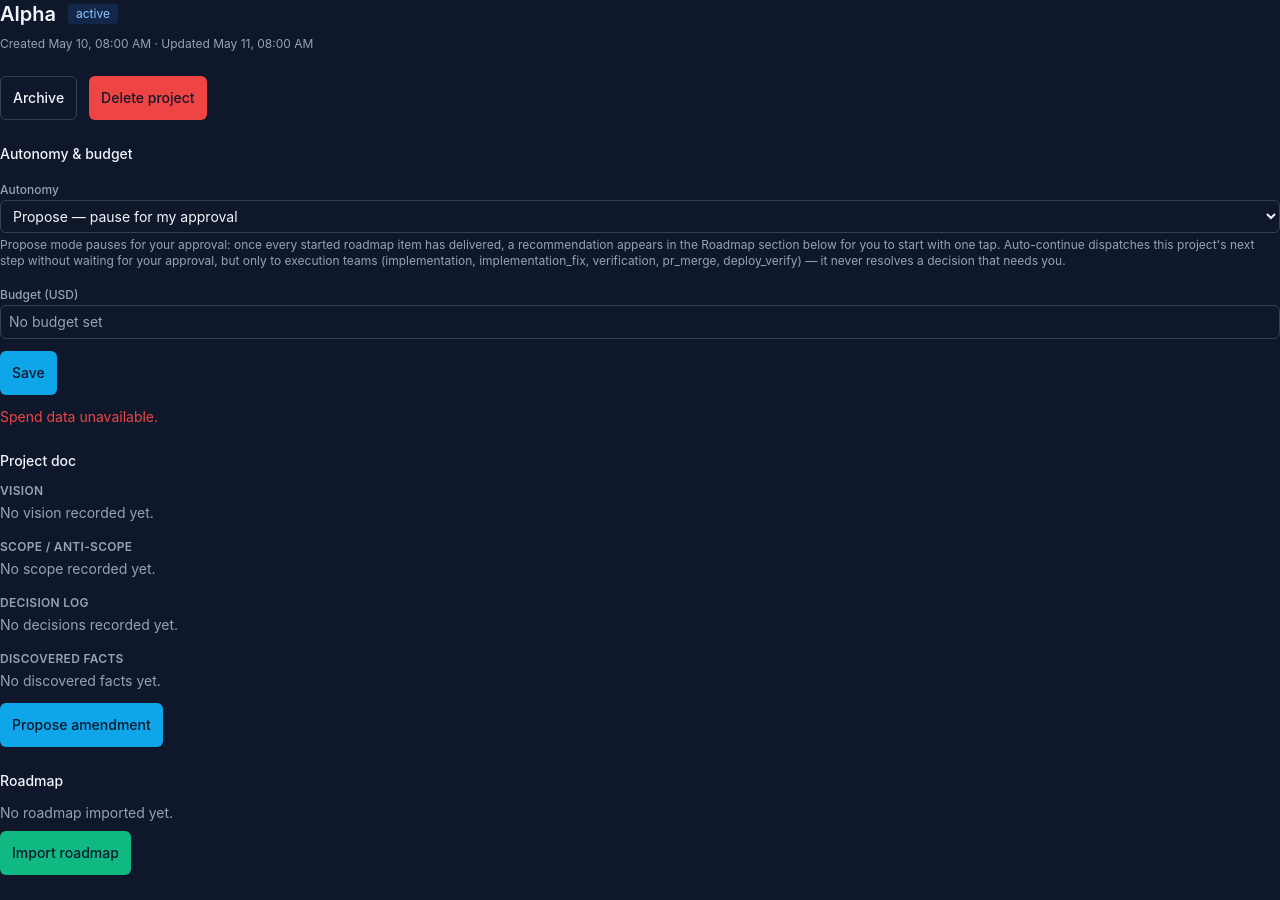
Scenario: Project dialogs adopt the shared DialogFrame › gives the delete-project dialog an accessible name matching its heading
Click the button with test id "project-delete-button" at x=148, y=98, box [89,76,207,120]
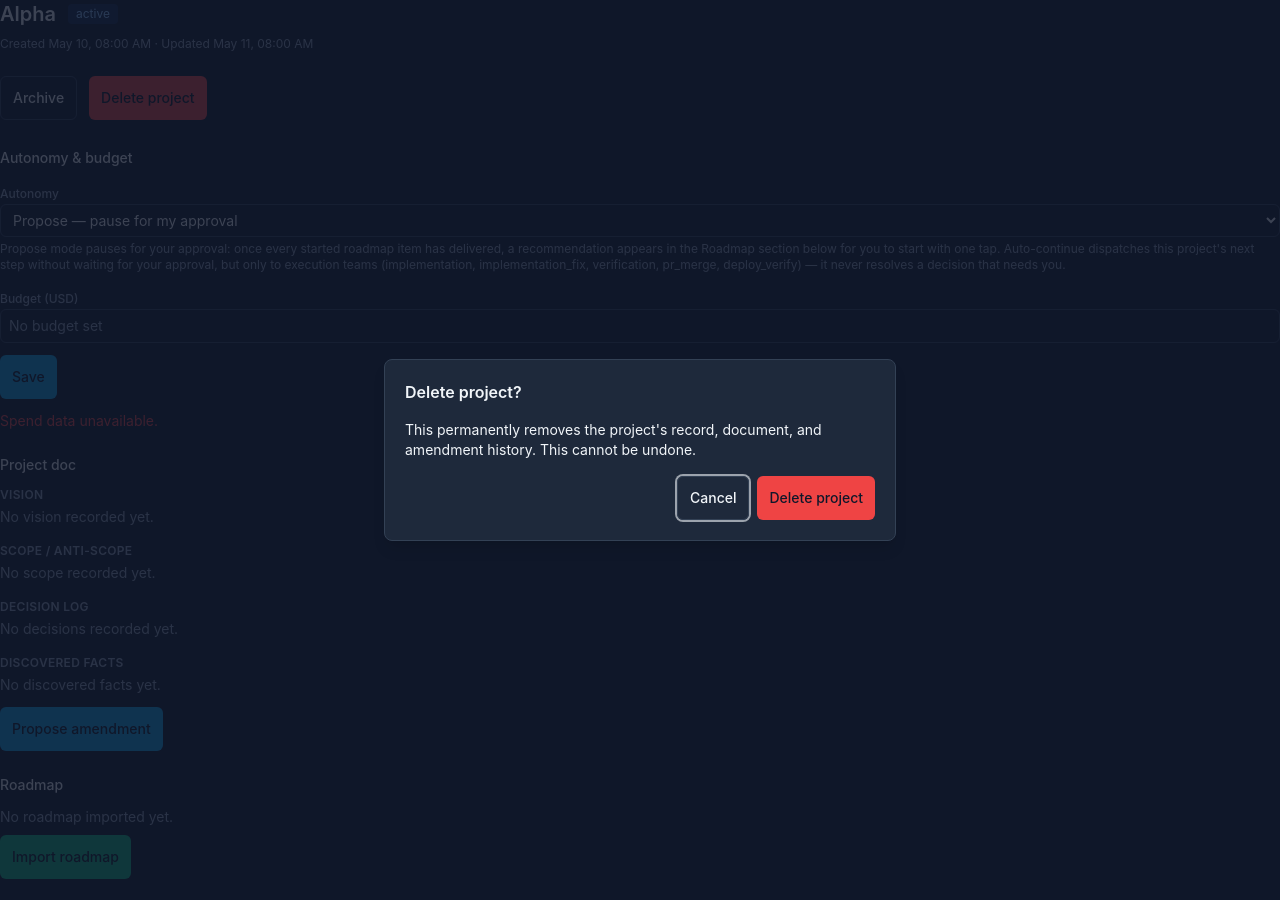
Expected: the dialog "Delete project" is shown, [384,359,896,541]
